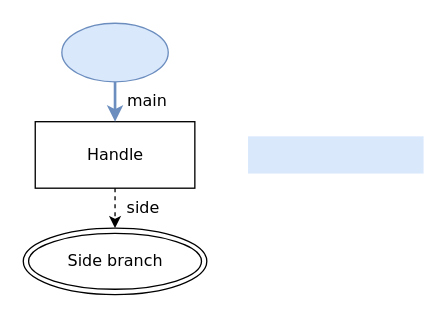
Image size: 447x318. Some labels were removed from this diagram. Each missing label, with the box of its shape:
A highlighted note: (247, 136, 423, 173)
Enter: (61, 22, 168, 82)
